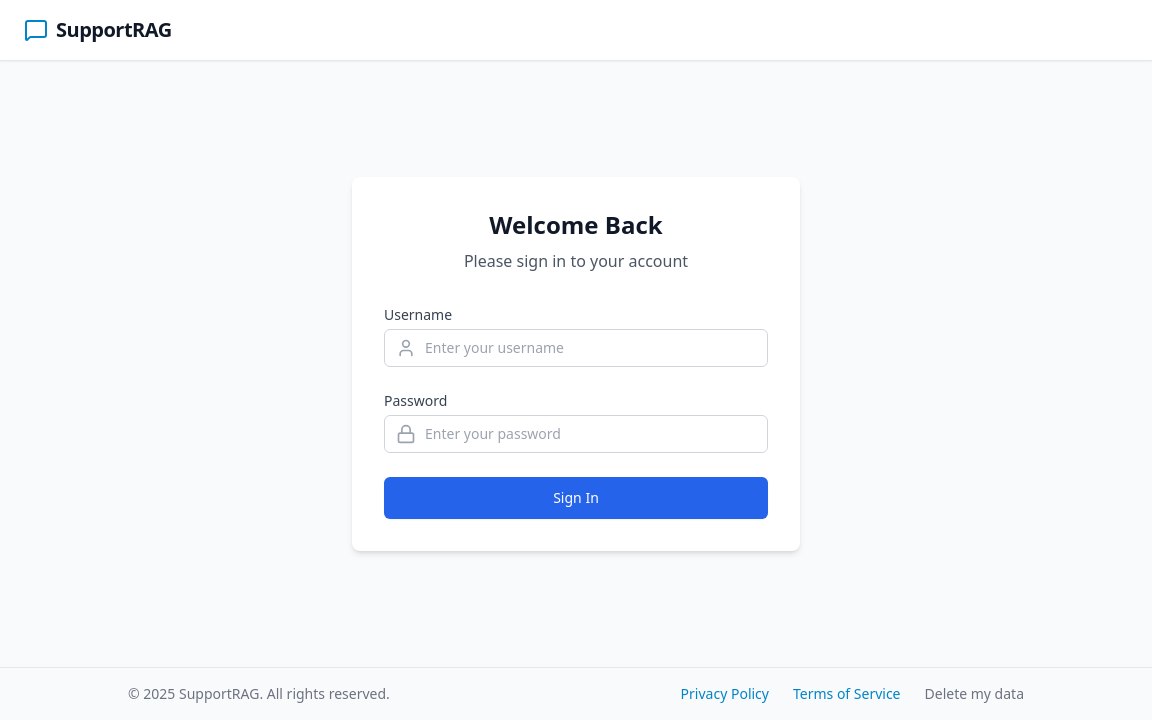
Test case: Authentication Flow Integration › should handle login error
Type "testuser" into the field labelled "Username" at (576, 348), box 384,329 -> 768,367
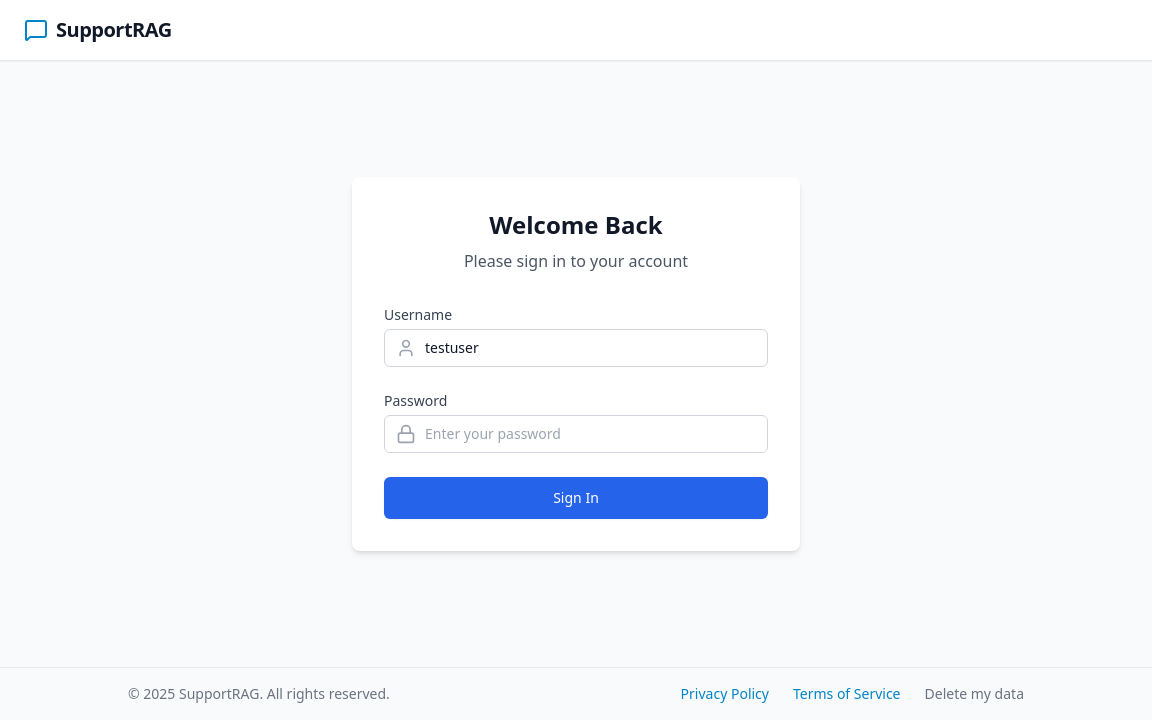
Type "wrongpass" into the password field labelled "Password" at (576, 434), box 384,415 -> 768,453
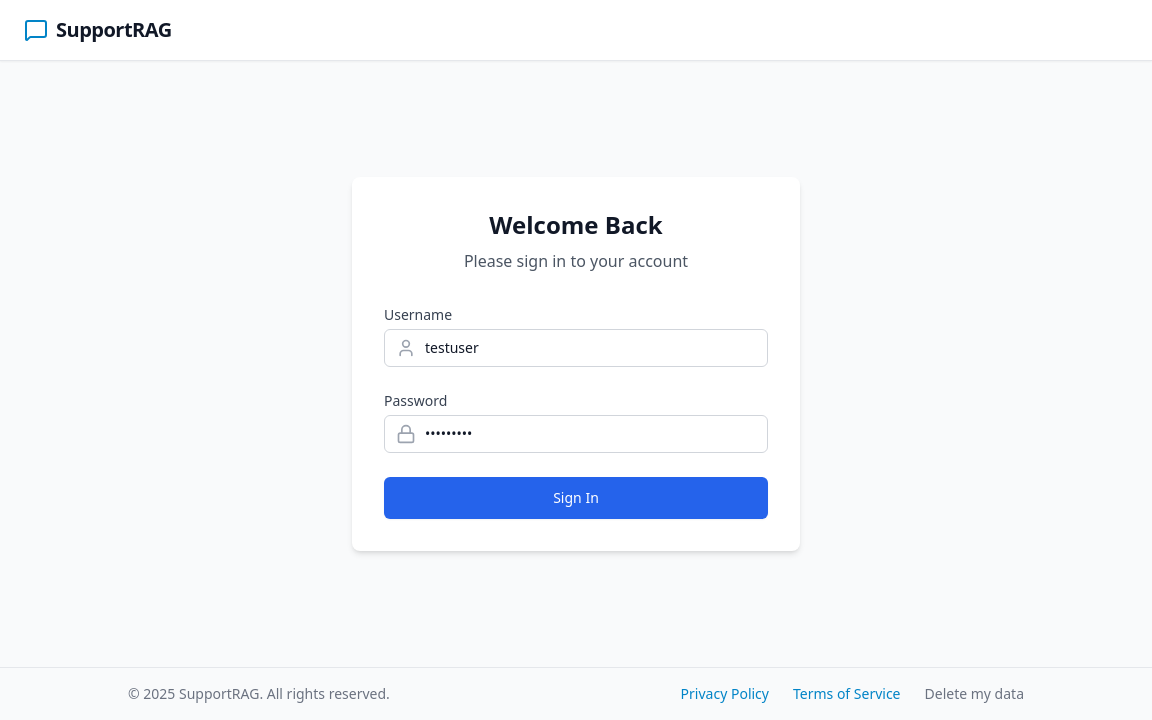
Click the button "Sign In" at (576, 498), box 384,477 -> 768,519
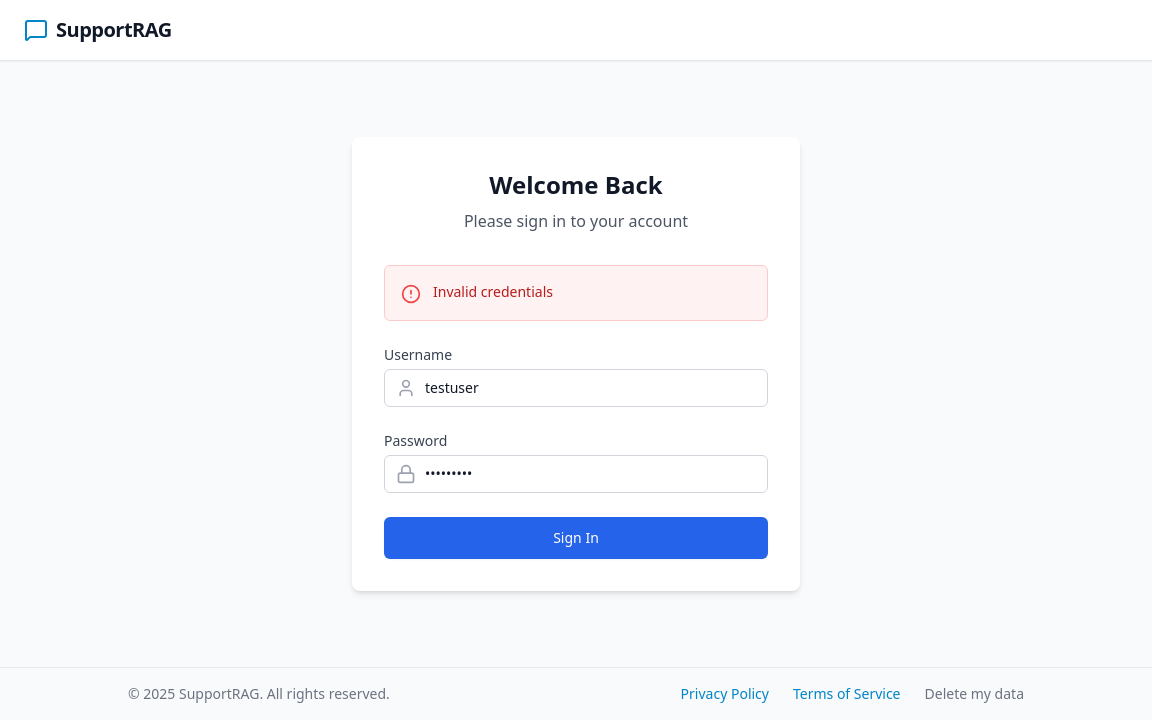
Now the text "Invalid credentials" is shown, box 433,282 -> 553,302
